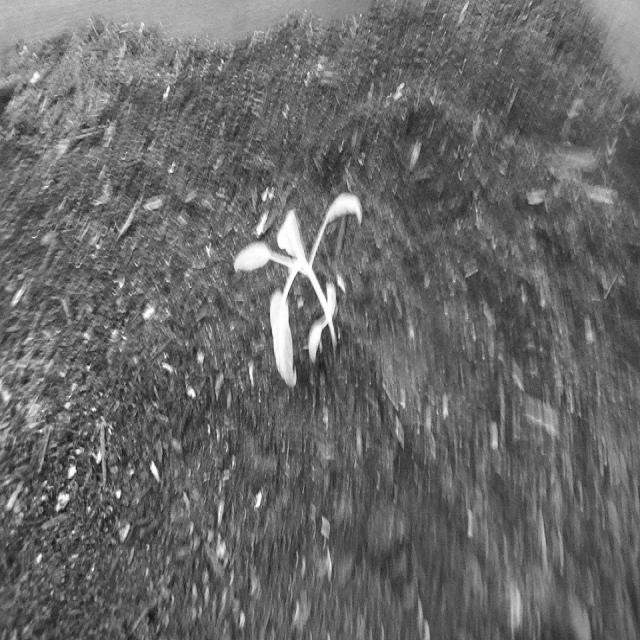Healthy: (230, 185, 372, 395)
